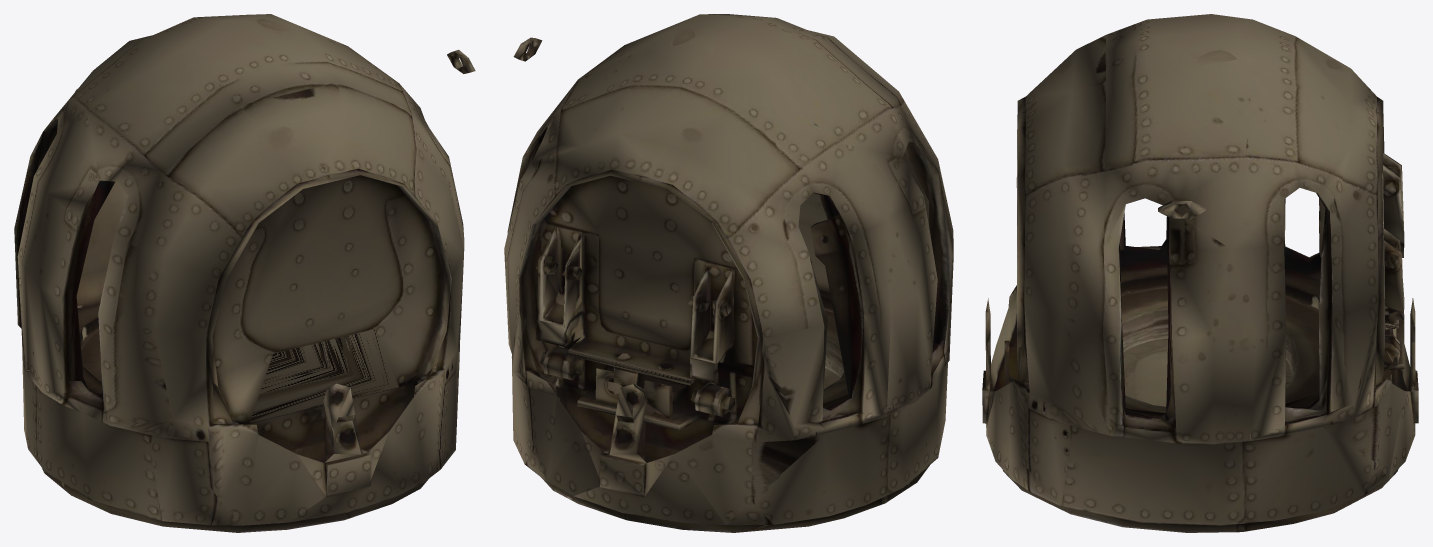
File: tailmantlet.glb
3 views of the same model, side by side, from view 1: azimuth 30°, elevation 25°; view 2: azimuth 150°, elevation 25°; view 3: azimuth 270°, elevation 25° (orthographic).
Parts seen in each view (by area): view 1: tripo_node_9e5cb5f6-5d44-4096-b3f2-78b73; view 2: tripo_node_9e5cb5f6-5d44-4096-b3f2-78b73; view 3: tripo_node_9e5cb5f6-5d44-4096-b3f2-78b73.
Boxes of the visible parts, x1,y1,x2,y2 form: tripo_node_9e5cb5f6-5d44-4096-b3f2-78b73: (14, 14, 475, 532); tripo_node_9e5cb5f6-5d44-4096-b3f2-78b73: (504, 14, 953, 532); tripo_node_9e5cb5f6-5d44-4096-b3f2-78b73: (982, 14, 1418, 532).
Bounding box in the file's own units: 0.9815 × 0.9481 × 0.9052.
Materials: 1 (1 with a texture image).
